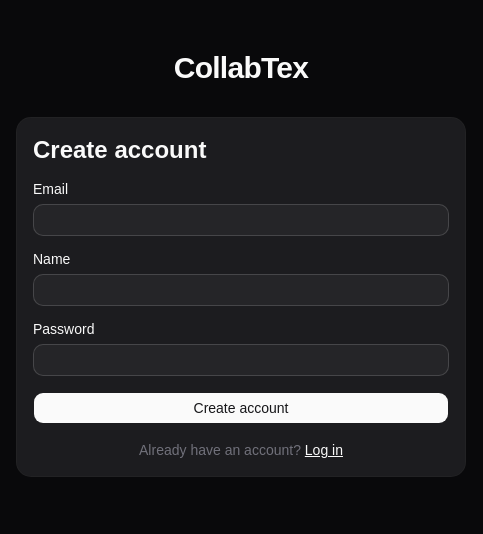
RegisterPage › shows field-level errors from API response
In the field labelled "Email": x=241, y=220 [33,204,449,236], type "a@b.com"
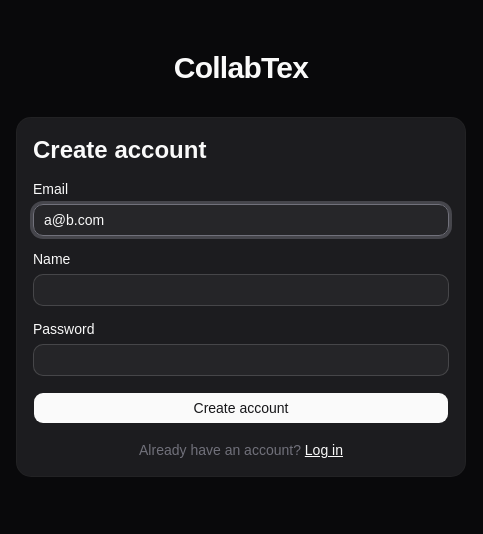
In the field labelled "Name": x=241, y=290 [33,274,449,306], type "Alice"
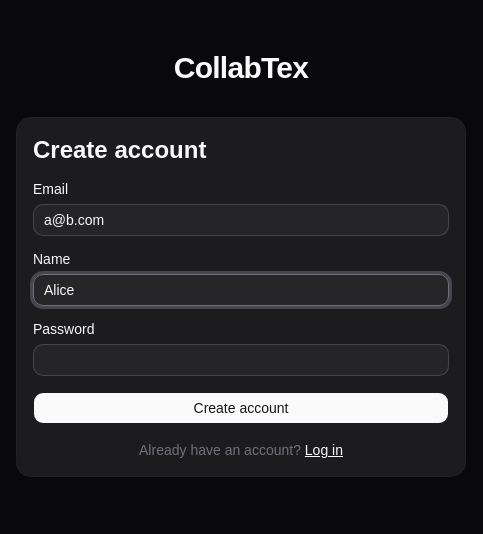
In the password field labelled "Password": x=241, y=360 [33,344,449,376], type "pass123"
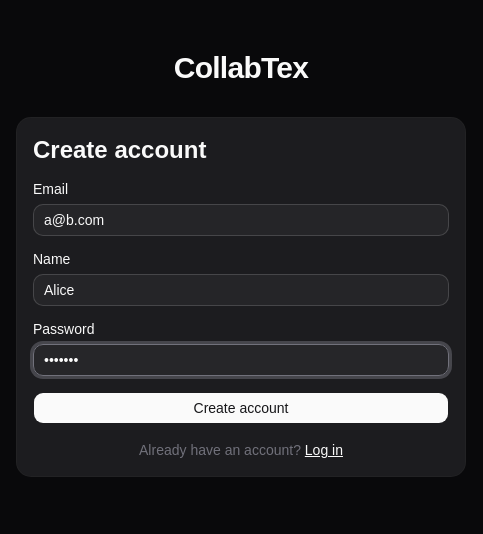
Click the button "Create account": x=241, y=408 [33,392,449,424]
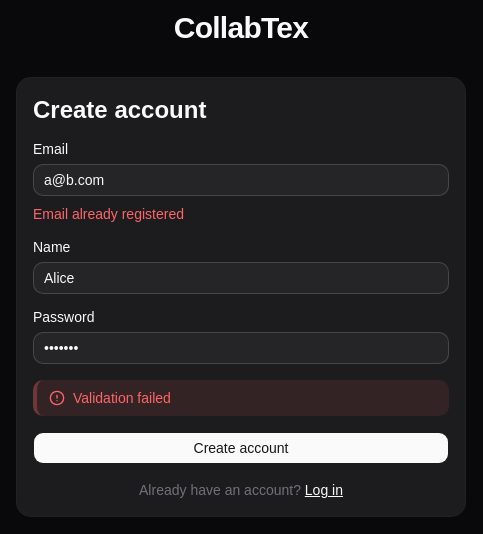
Expected: the text "Email already registered" is shown, [33,206,184,222]
